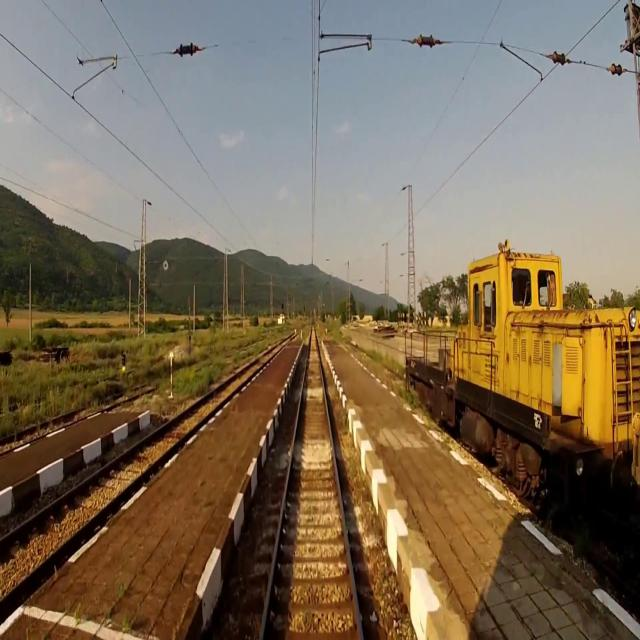rail-track: (0, 347, 278, 597), (264, 327, 359, 639), (0, 389, 143, 450)
